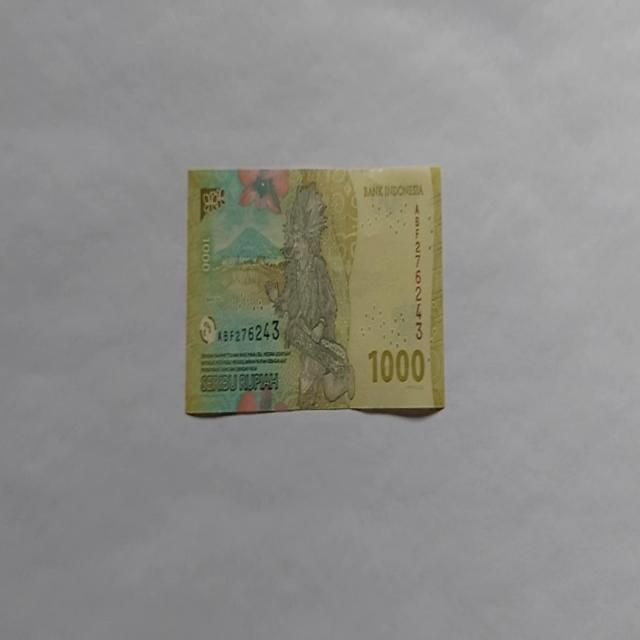seribu rupiah kertas: (184, 164, 446, 417)
